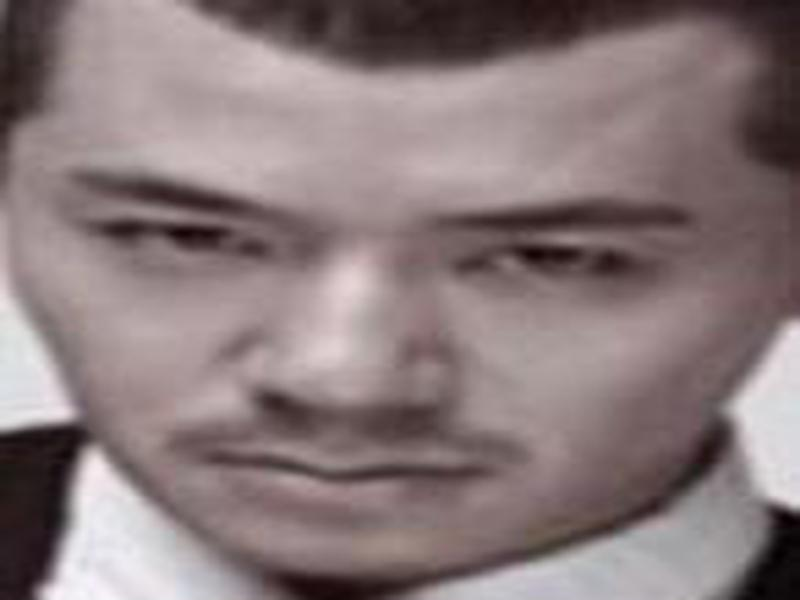without_mask: (12, 16, 761, 582)
